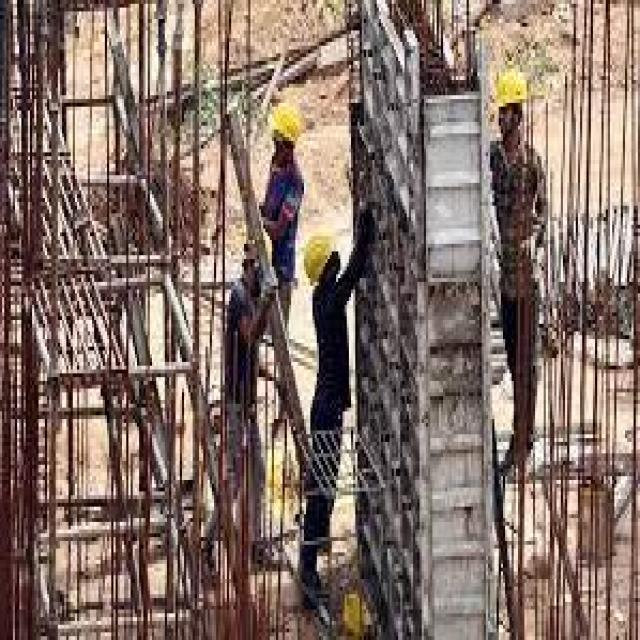Reflective-Jacket: (486, 137, 550, 301), (259, 156, 308, 255)
Safety-Helmet: (300, 221, 340, 289), (488, 61, 531, 122), (266, 95, 306, 156)
